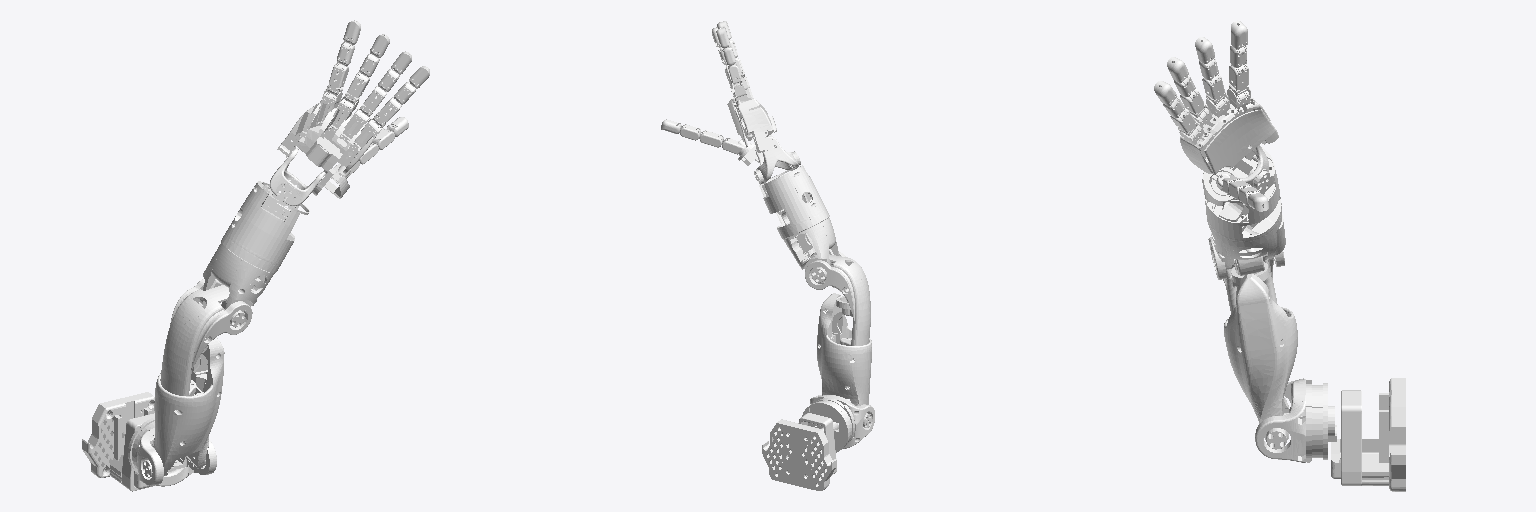
The robot description file, URDF, robot "Arm_urdf":
<?xml version="1.0" encoding="utf-8"?>
<!-- This URDF was automatically created by SolidWorks to URDF Exporter! Originally created by Stephen Brawner (brawner@gmail.com) 
     Commit Version: 1.6.0-4-g7f85cfe  Build Version: 1.6.7995.38578
     For more information, please see http://wiki.ros.org/sw_urdf_exporter -->
<robot
  name="Arm_urdf">
  <link
    name="base_link">
    <inertial>
      <origin
        xyz="0.00023729 -0.029773 -0.005728"
        rpy="0 0 0" />
      <mass
        value="0.20293" />
      <inertia
        ixx="0.00017245"
        ixy="4.1786E-07"
        ixz="-4.8345E-07"
        iyy="0.00021038"
        iyz="-3.0627E-05"
        izz="0.00015077" />
    </inertial>
    <visual>
      <origin
        xyz="0 0 0"
        rpy="0 0 0" />
      <geometry>
        <mesh
          filename="package://Arm_urdf/meshes/base_link.STL" />
      </geometry>
      <material
        name="">
        <color
          rgba="1 1 1 1" />
      </material>
    </visual>
    <collision>
      <origin
        xyz="0 0 0"
        rpy="0 0 0" />
      <geometry>
        <mesh
          filename="package://Arm_urdf/meshes/base_link.STL" />
      </geometry>
    </collision>
  </link>
  <link
    name="Link_1">
    <inertial>
      <origin
        xyz="-0.00015608 -0.029206 0.0011045"
        rpy="0 0 0" />
      <mass
        value="0.11071" />
      <inertia
        ixx="3.5305E-05"
        ixy="-9.4741E-09"
        ixz="-1.082E-07"
        iyy="2.324E-05"
        iyz="1.3454E-07"
        izz="3.2077E-05" />
    </inertial>
    <visual>
      <origin
        xyz="0 0 0"
        rpy="0 0 0" />
      <geometry>
        <mesh
          filename="package://Arm_urdf/meshes/Link_1.STL" />
      </geometry>
      <material
        name="">
        <color
          rgba="1 1 1 1" />
      </material>
    </visual>
    <collision>
      <origin
        xyz="0 0 0"
        rpy="0 0 0" />
      <geometry>
        <mesh
          filename="package://Arm_urdf/meshes/Link_1.STL" />
      </geometry>
    </collision>
  </link>
  <joint
    name="Joint_1"
    type="continuous">
    <origin
      xyz="-0.00051497 -0.067362 0.014563"
      rpy="0 0 0" />
    <parent
      link="base_link" />
    <child
      link="Link_1" />
    <axis
      xyz="0 -1 0" />
    <limit
      lower="0"
      upper="0"
      effort="0"
      velocity="0" />
  </joint>
  <link
    name="Link_2">
    <inertial>
      <origin
        xyz="-0.035445 -0.012976 0.071106"
        rpy="0 0 0" />
      <mass
        value="0.26865" />
      <inertia
        ixx="0.0002599"
        ixy="2.8092E-06"
        ixz="-4.2547E-05"
        iyy="0.00034834"
        iyz="1.5542E-05"
        izz="0.00013303" />
    </inertial>
    <visual>
      <origin
        xyz="0 0 0"
        rpy="0 0 0" />
      <geometry>
        <mesh
          filename="package://Arm_urdf/meshes/Link_2.STL" />
      </geometry>
      <material
        name="">
        <color
          rgba="1 1 1 1" />
      </material>
    </visual>
    <collision>
      <origin
        xyz="0 0 0"
        rpy="0 0 0" />
      <geometry>
        <mesh
          filename="package://Arm_urdf/meshes/Link_2.STL" />
      </geometry>
    </collision>
  </link>
  <joint
    name="Joint_2"
    type="revolute">
    <origin
      xyz="0.040276 -0.056 -0.0011666"
      rpy="0 0 0" />
    <parent
      link="Link_1" />
    <child
      link="Link_2" />
    <axis
      xyz="0.99939 0 -0.034899" />
    <limit
      lower="-0.1"
      upper="2.7"
      effort="0"
      velocity="0" />
  </joint>
  <link
    name="Link_3">
    <inertial>
      <origin
        xyz="0.0029697 -0.0033585 0.021864"
        rpy="0 0 0" />
      <mass
        value="0.12862" />
      <inertia
        ixx="0.00013343"
        ixy="1.1319E-06"
        ixz="-5.0845E-05"
        iyy="0.00018346"
        iyz="1.3898E-05"
        izz="6.271E-05" />
    </inertial>
    <visual>
      <origin
        xyz="0 0 0"
        rpy="0 0 0" />
      <geometry>
        <mesh
          filename="package://Arm_urdf/meshes/Link_3.STL" />
      </geometry>
      <material
        name="">
        <color
          rgba="1 1 1 1" />
      </material>
    </visual>
    <collision>
      <origin
        xyz="0 0 0"
        rpy="0 0 0" />
      <geometry>
        <mesh
          filename="package://Arm_urdf/meshes/Link_3.STL" />
      </geometry>
    </collision>
  </link>
  <joint
    name="Joint_3"
    type="revolute">
    <origin
      xyz="-0.038652 -0.024501 0.14475"
      rpy="0 0 0" />
    <parent
      link="Link_2" />
    <child
      link="Link_3" />
    <axis
      xyz="0.024925 -0.16804 0.98546" />
    <limit
      lower="-1.46"
      upper="1.20"
      effort="0"
      velocity="0" />
  </joint>
  <link
    name="Link_4">
    <inertial>
      <origin
        xyz="0.015842 0.029079 0.040767"
        rpy="0 0 0" />
      <mass
        value="0.085467" />
      <inertia
        ixx="3.1068E-05"
        ixy="-7.2268E-07"
        ixz="-9.2077E-06"
        iyy="4.4353E-05"
        iyz="2.1413E-06"
        izz="2.2194E-05" />
    </inertial>
    <visual>
      <origin
        xyz="0 0 0"
        rpy="0 0 0" />
      <geometry>
        <mesh
          filename="package://Arm_urdf/meshes/Link_4.STL" />
      </geometry>
      <material
        name="">
        <color
          rgba="1 1 1 1" />
      </material>
    </visual>
    <collision>
      <origin
        xyz="0 0 0"
        rpy="0 0 0" />
      <geometry>
        <mesh
          filename="package://Arm_urdf/meshes/Link_4.STL" />
      </geometry>
    </collision>
  </link>
  <joint
    name="Joint_4"
    type="revolute">
    <origin
      xyz="0.043801 -0.035078 0.047707"
      rpy="0 0 0" />
    <parent
      link="Link_3" />
    <child
      link="Link_4" />
    <axis
      xyz="0.14399 -0.97489 -0.16988" />
    <limit
      lower="-1.90"
      upper="0.50"
      effort="0"
      velocity="0" />
  </joint>
  <link
    name="Link_5">
    <inertial>
      <origin
        xyz="0.0189420196962599 7.81016898752374E-05 0.0352984344105795"
        rpy="0 0 0" />
      <mass
        value="0.090721644131545" />
      <inertia
        ixx="6.09731078201487E-05"
        ixy="5.79175133763387E-06"
        ixz="-6.52412539068886E-06"
        iyy="6.61898439393332E-05"
        iyz="-7.23406883275487E-06"
        izz="4.52650445318259E-05" />
    </inertial>
    <visual>
      <origin
        xyz="0 0 0"
        rpy="0 0 0" />
      <geometry>
        <mesh
          filename="package://Arm_urdf/meshes/Link_5.STL" />
      </geometry>
      <material
        name="">
        <color
          rgba="1 1 1 1" />
      </material>
    </visual>
    <collision>
      <origin
        xyz="0 0 0"
        rpy="0 0 0" />
      <geometry>
        <mesh
          filename="package://Arm_urdf/meshes/Link_5.STL" />
      </geometry>
    </collision>
  </link>
  <joint
    name="Joint_5"
    type="revolute">
    <origin
      xyz="0.028905 0.029268 0.059038"
      rpy="0 0 0" />
    <parent
      link="Link_4" />
    <child
      link="Link_5" />
    <axis
      xyz="-0.53574 0.067541 -0.84168" />
    <limit
      lower="-3.45"
      upper="1.40"
      effort="0"
      velocity="0" />
  </joint>
  <link
    name="Link_6">
    <inertial>
      <origin
        xyz="0.02393 0.022053 -0.0026248"
        rpy="0 0 0" />
      <mass
        value="0.025948" />
      <inertia
        ixx="1.2355E-05"
        ixy="-5.0682E-07"
        ixz="1.4834E-06"
        iyy="1.128E-05"
        iyz="6.5829E-08"
        izz="1.3721E-05" />
    </inertial>
    <visual>
      <origin
        xyz="0 0 0"
        rpy="0 0 0" />
      <geometry>
        <mesh
          filename="package://Arm_urdf/meshes/Link_6.STL" />
      </geometry>
      <material
        name="">
        <color
          rgba="1 1 1 1" />
      </material>
    </visual>
    <collision>
      <origin
        xyz="0 0 0"
        rpy="0 0 0" />
      <geometry>
        <mesh
          filename="package://Arm_urdf/meshes/Link_6.STL" />
      </geometry>
    </collision>
  </link>
  <joint
    name="Joint_6"
    type="revolute">
    <origin
      xyz="0.031341 -0.030097 0.086442"
      rpy="0 0 0" />
    <parent
      link="Link_5" />
    <child
      link="Link_6" />
    <axis
      xyz="0.568 0.76639 -0.30004" />
    <limit
      lower="-0.40"
      upper="0.40"
      effort="0"
      velocity="0" />
  </joint>
  <link
    name="Link_7">
    <inertial>
      <origin
        xyz="0.040261 0.0042093 0.072717"
        rpy="0 0 0" />
      <mass
        value="0.14878" />
      <inertia
        ixx="4.0997E-05"
        ixy="1.1883E-05"
        ixz="-7.7908E-07"
        iyy="3.934E-05"
        iyz="-5.0591E-06"
        izz="4.4142E-05" />
    </inertial>
    <visual>
      <origin
        xyz="0 0 0"
        rpy="0 0 0" />
      <geometry>
        <mesh
          filename="package://Arm_urdf/meshes/Link_7.STL" />
      </geometry>
      <material
        name="">
        <color
          rgba="1 1 1 1" />
      </material>
    </visual>
    <collision>
      <origin
        xyz="0 0 0"
        rpy="0 0 0" />
      <geometry>
        <mesh
          filename="package://Arm_urdf/meshes/Link_7.STL" />
      </geometry>
    </collision>
  </link>
  <joint
    name="Joint_7"
    type="revolute">
    <origin
      xyz="0.052865 0.00065737 -0.0026763"
      rpy="0 0 0" />
    <parent
      link="Link_6" />
    <child
      link="Link_7" />
    <axis
      xyz="-0.54666 0.61513 0.56813" />
    <limit
      lower="-1.25"
      upper="1.3"
      effort="0"
      velocity="0" />
  </joint>
</robot>

--- What the picture shows (computed from the rendered views, not written in the file) ---
The picture shows the robot from 3 angles, left to right: view 1: azimuth 30°, elevation 25°; view 2: azimuth 150°, elevation 25°; view 3: azimuth 270°, elevation 25°; orthographic projection.
Robot: Arm_urdf — 8 links, 7 joints (6 revolute, 1 continuous); root link base_link; default pose: all joints at 0.
Visible links, largest first — view 1: Link_7, Link_2, Link_3, Link_5, base_link, Link_4, Link_1, Link_6; view 2: base_link, Link_7, Link_2, Link_5, Link_3, Link_1, Link_4, Link_6; view 3: Link_7, Link_2, base_link, Link_1, Link_5, Link_3, Link_4, Link_6.
Boxes of the visible links, x1,y1,x2,y2 form: Link_7: (277, 20, 429, 198); Link_2: (143, 337, 224, 477); Link_3: (160, 279, 252, 395); Link_5: (221, 181, 309, 272); base_link: (82, 392, 186, 491); Link_4: (200, 242, 274, 327); Link_1: (128, 417, 216, 486); Link_6: (270, 148, 325, 205); base_link: (762, 413, 839, 490); Link_7: (661, 21, 776, 165); Link_2: (817, 293, 871, 427); Link_5: (759, 165, 829, 238); Link_3: (805, 252, 870, 345); Link_1: (802, 395, 874, 452); Link_4: (783, 217, 839, 282); Link_6: (754, 136, 800, 184); Link_7: (1154, 20, 1278, 211); Link_2: (1224, 262, 1297, 449); base_link: (1328, 378, 1405, 491); Link_1: (1255, 378, 1327, 462); Link_5: (1203, 147, 1281, 247); Link_3: (1208, 237, 1284, 312); Link_4: (1210, 202, 1285, 269); Link_6: (1217, 145, 1269, 190).
Bounding box of the posed robot: 0.3476 × 0.2405 × 0.5742 m (x, y, z).
Meshes: 8 distinct files referenced, 8 mesh visuals loaded (8 binary STL).
